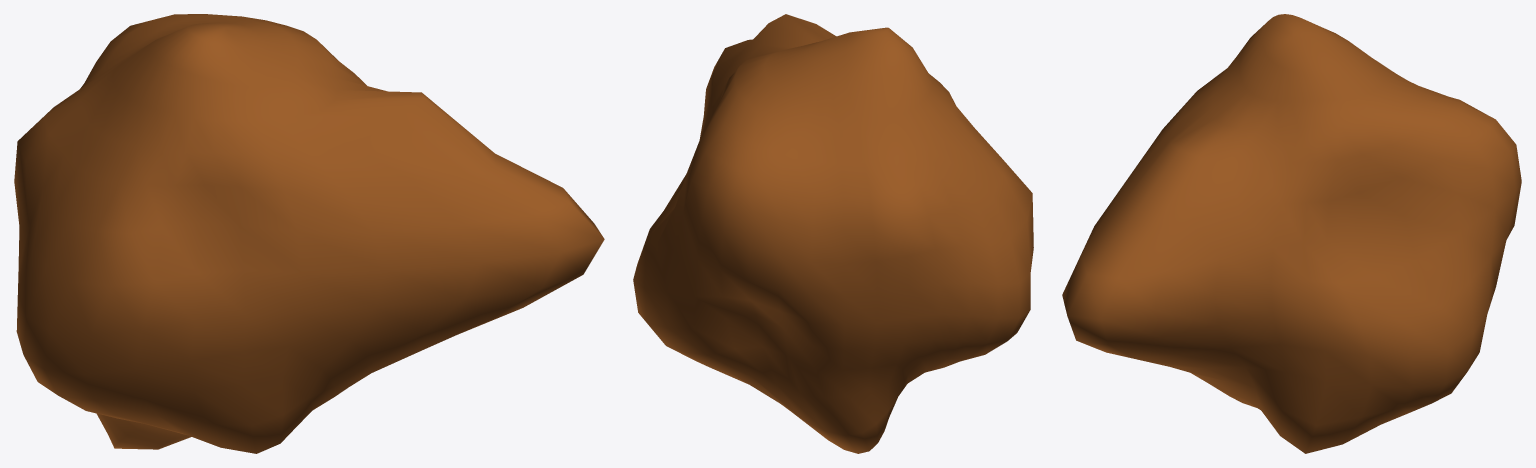
The model's file is Asteroid4.fbx.
3 renders of one model, left to right at view 1: azimuth 30°, elevation 25°; view 2: azimuth 150°, elevation 25°; view 3: azimuth 270°, elevation 25°, orthographic. The views are drawn at different scales.
Visible parts, largest first — view 1: Sphere; view 2: Sphere; view 3: Sphere.
Part boxes in pixels (x1,y1,x2,y2): Sphere: (14, 14, 604, 453); Sphere: (633, 14, 1033, 453); Sphere: (1062, 14, 1521, 453).
Bounding box in the file's own units: 2.68 × 2.47 × 2.53.
